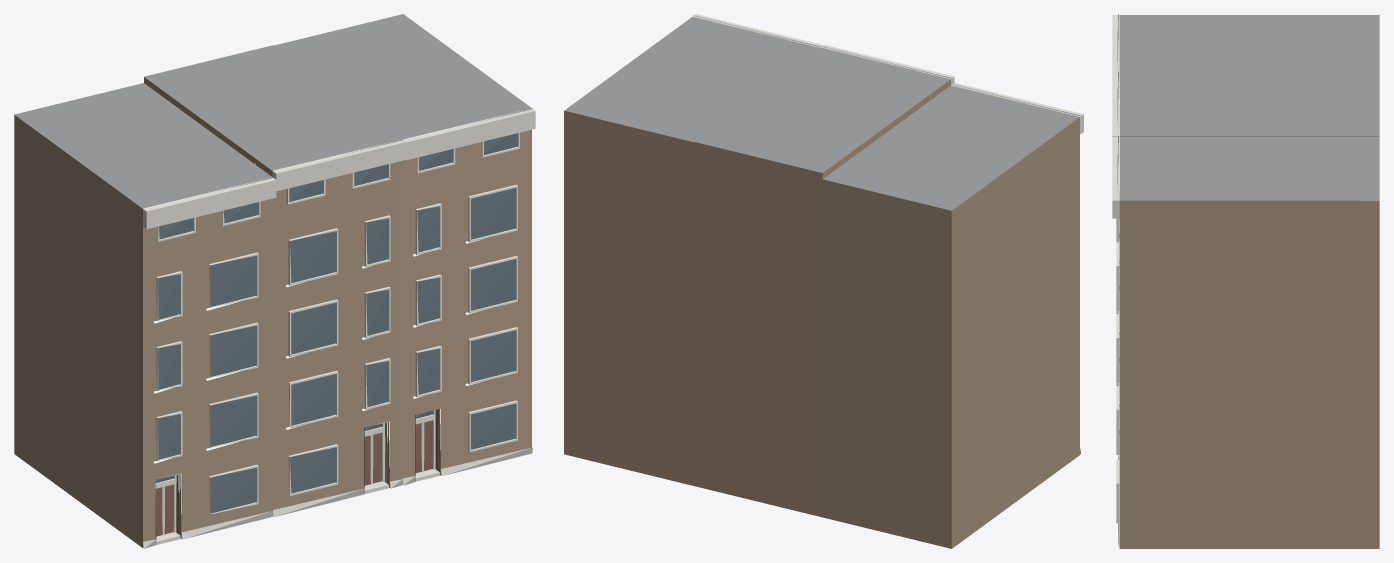
The model's file is chunk-face-treslong-6-26-r1.lod2.glb.
3 renders of one model, left to right at view 1: azimuth 30°, elevation 25°; view 2: azimuth 150°, elevation 25°; view 3: azimuth 270°, elevation 25°, orthographic.
Visible parts, largest first — view 1: lod2; view 2: lod2; view 3: lod2.
Boxes of the visible parts, box(x1,y1,x2,y2) form: lod2: box(14, 14, 535, 548); lod2: box(564, 14, 1083, 548); lod2: box(1112, 14, 1379, 548).
Bounding box in the file's own units: 18.31 × 15.58 × 10.8.
